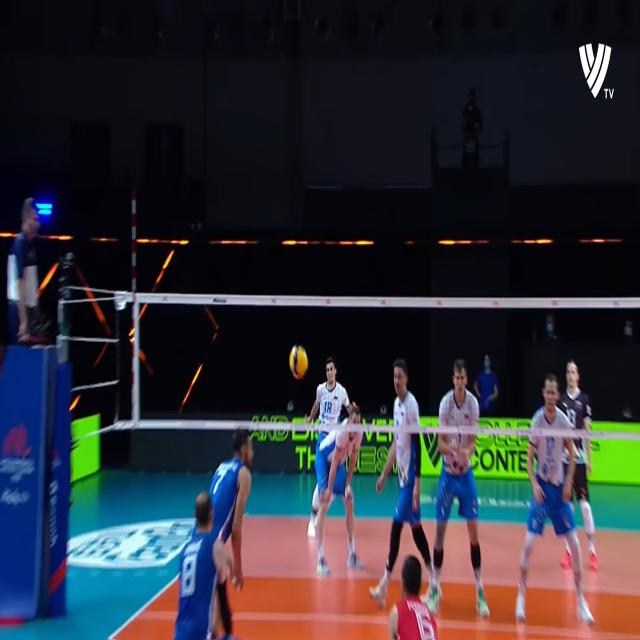player: (518, 366, 592, 630), (376, 362, 440, 611), (435, 358, 487, 620), (317, 402, 367, 579), (207, 426, 262, 582), (178, 490, 231, 640), (562, 351, 596, 568), (314, 362, 349, 528), (381, 556, 445, 640)
